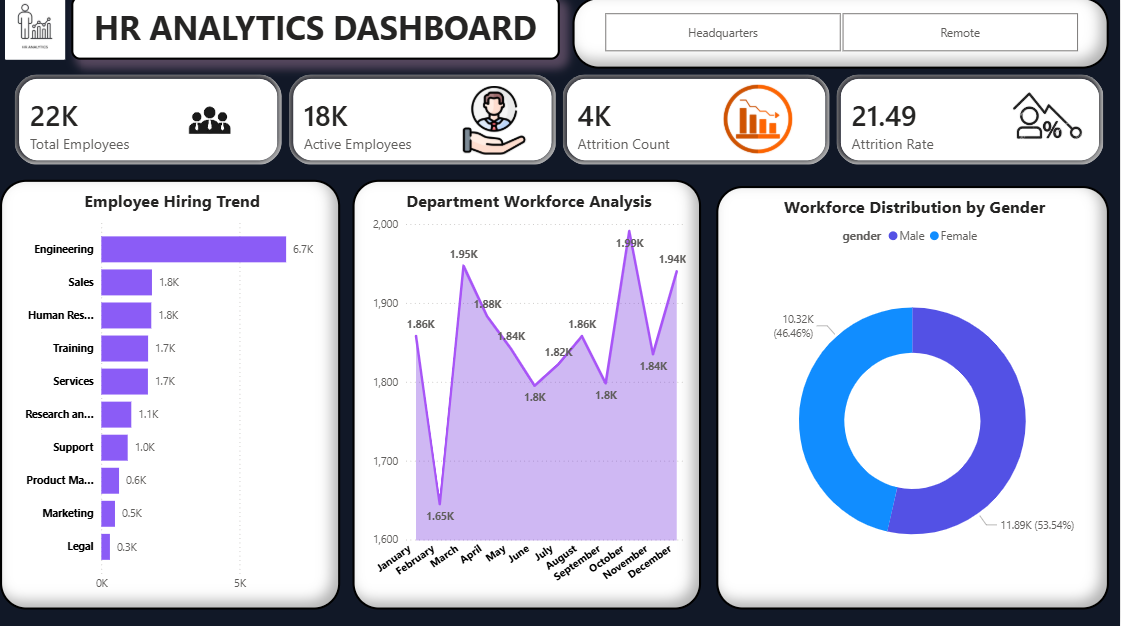

The page's visual inventory and layout, read from the dashboard file:
{"tool":"powerbi","page":{"name":"Executive Overview","canvas":[1280,720],"ordinal":0},"visuals":[{"type":"textbox","box":[81.2,0,558.8,72.5],"z":0},{"type":"image","box":[5,1.2,68.8,71.2],"z":1000},{"type":"cardVisual","fields":{"Data":["Shoping_table_std.Total Employees","Shoping_table_std.Active Employees","Shoping_table_std.Attrition Count","Shoping_table_std.Attrition Rate"]},"box":[0,72.5,1280,137.5],"z":2000},{"type":"image","box":[152.5,93.8,173.8,95],"z":3000},{"type":"image","box":[500,102.5,130,78.8],"z":4000},{"type":"image","box":[801.2,101.2,130,78.8],"z":5000},{"type":"image","box":[1113.8,66.2,166.2,151.2],"z":6000},{"type":"clusteredBarChart","title":"Employee Hiring Trend","fields":{"Category":["Shoping_table_std.department"],"Y":["CountNonNull(Shoping_table_std.id)"]},"box":[0,210,388.8,491.2],"z":7000},{"type":"areaChart","title":"Department Workforce Analysis","fields":{"Category":["Shoping_table_std.hire_date.Variation.Date Hierarchy.Month"],"Y":["CountNonNull(Shoping_table_std.id)"]},"box":[402.9,210,398.6,491.4],"z":8000},{"type":"donutChart","title":"Workforce Distribution by Gender","fields":{"Category":["Shoping_table_std.gender"],"Y":["CountNonNull(Shoping_table_std.id)"]},"box":[818.6,217.1,448.6,484.3],"z":9000},{"type":"slicer","fields":{"Values":["Shoping_table_std.location"]},"box":[654.3,1.4,612.9,81.4],"z":10000}]}

Visuals, with their boxes in screenshot pixels (x1, y1, x2, y2), scaled from the page's 1280x720 canvas onto the 1121x626 screenshot:
textbox: <bbox>71, 0, 560, 63</bbox>
image: <bbox>4, 1, 65, 63</bbox>
cardVisual - Shoping_table_std.Total Employees x Shoping_table_std.Active Employees: <bbox>0, 63, 1120, 183</bbox>
image: <bbox>134, 82, 286, 164</bbox>
image: <bbox>438, 89, 552, 158</bbox>
image: <bbox>702, 88, 816, 156</bbox>
image: <bbox>975, 58, 1120, 189</bbox>
"Employee Hiring Trend" clusteredBarChart: <bbox>0, 183, 341, 610</bbox>
"Department Workforce Analysis" areaChart: <bbox>353, 183, 702, 610</bbox>
"Workforce Distribution by Gender" donutChart: <bbox>717, 189, 1110, 610</bbox>
slicer - Shoping_table_std.location: <bbox>573, 1, 1110, 72</bbox>
